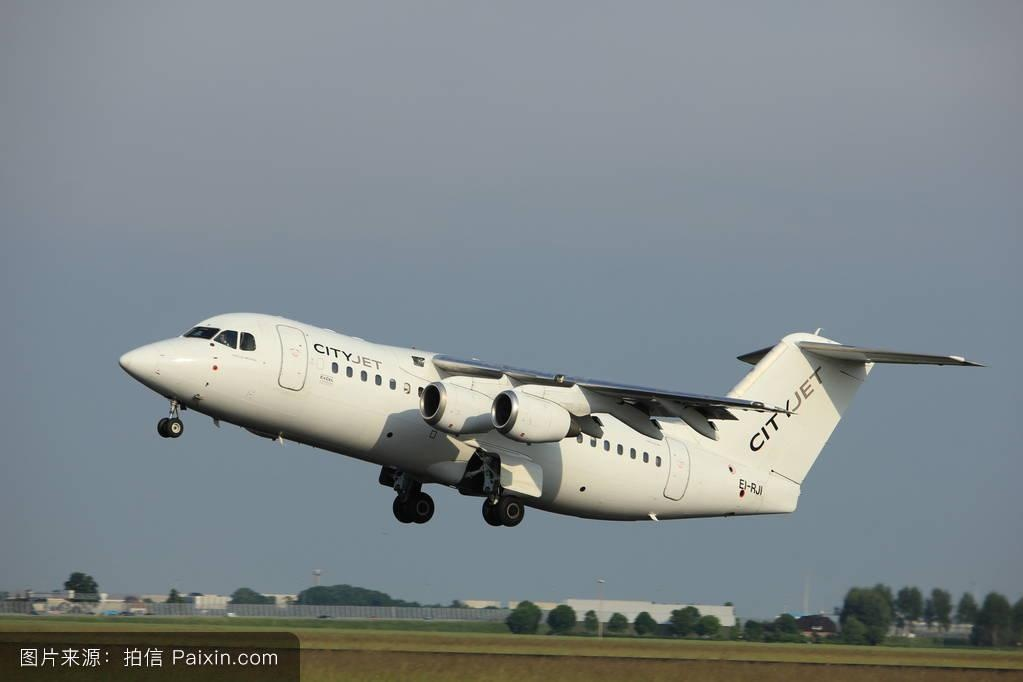airplane: (109, 305, 980, 537)
